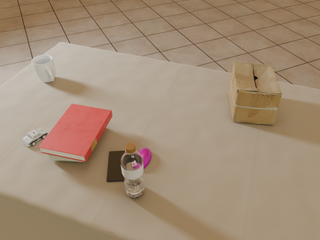book: (39, 104, 112, 162)
bottle: (120, 143, 145, 198)
box: (228, 62, 282, 125)
cup: (32, 55, 55, 82)
mouse: (138, 148, 151, 168)
phone: (107, 151, 125, 182)
toy_car: (23, 128, 48, 147)
